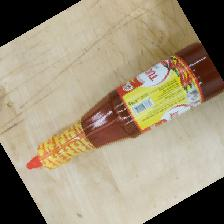Tuong: (26, 41, 224, 170)
